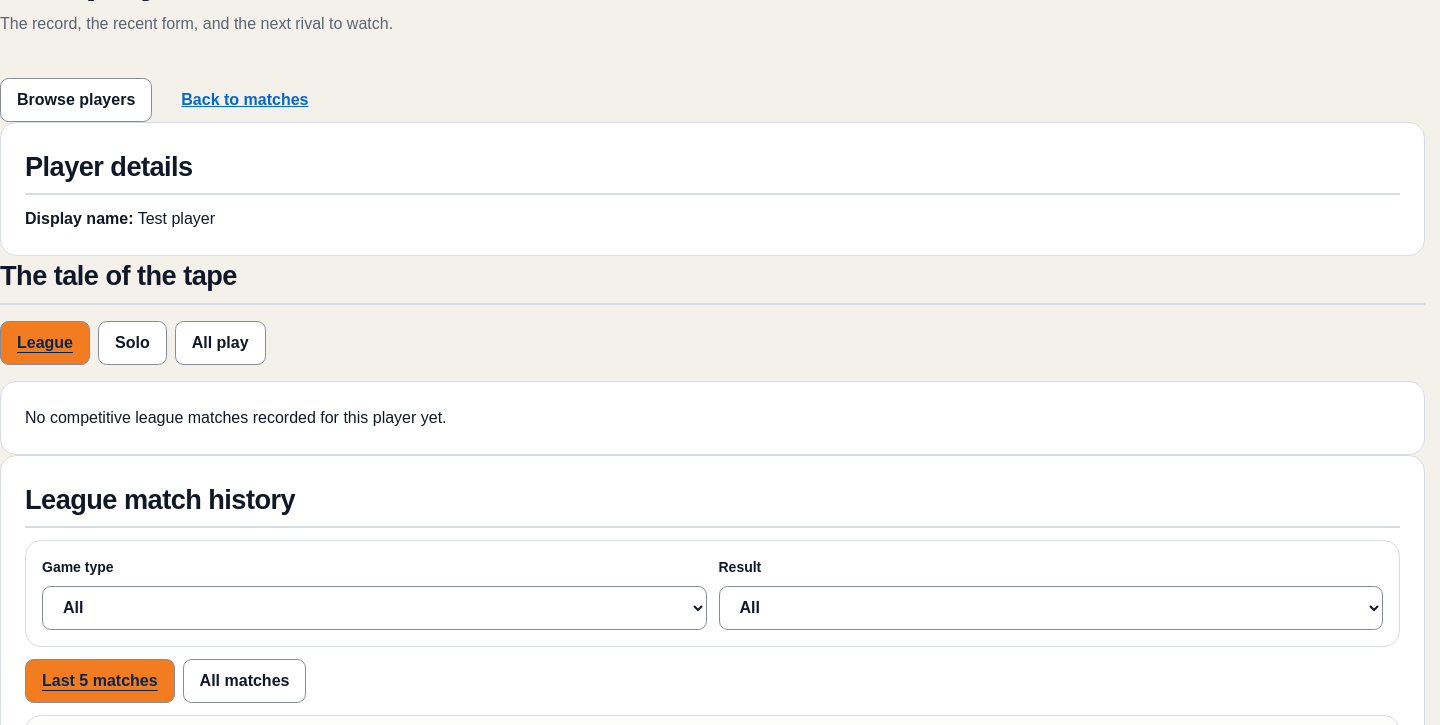
Test: filters recent matches immediately without requesting paginated history
This screenshot has width=1440, height=725.
Select "Cricket" in the dropdown labelled "Game type" at (374, 608), box [42, 586, 706, 630]
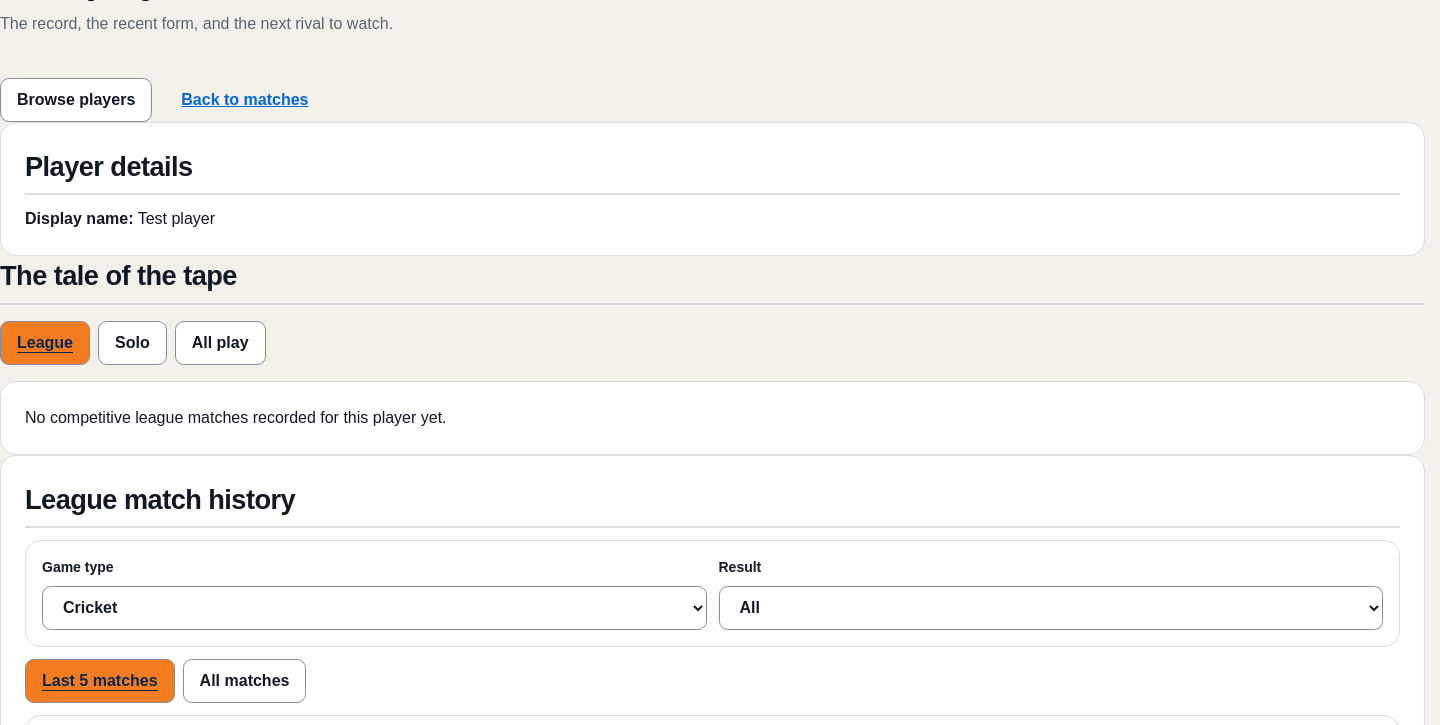
Select "Wins" in the dropdown labelled "Result" at (1051, 608), box [718, 586, 1383, 630]
(page scrolled)
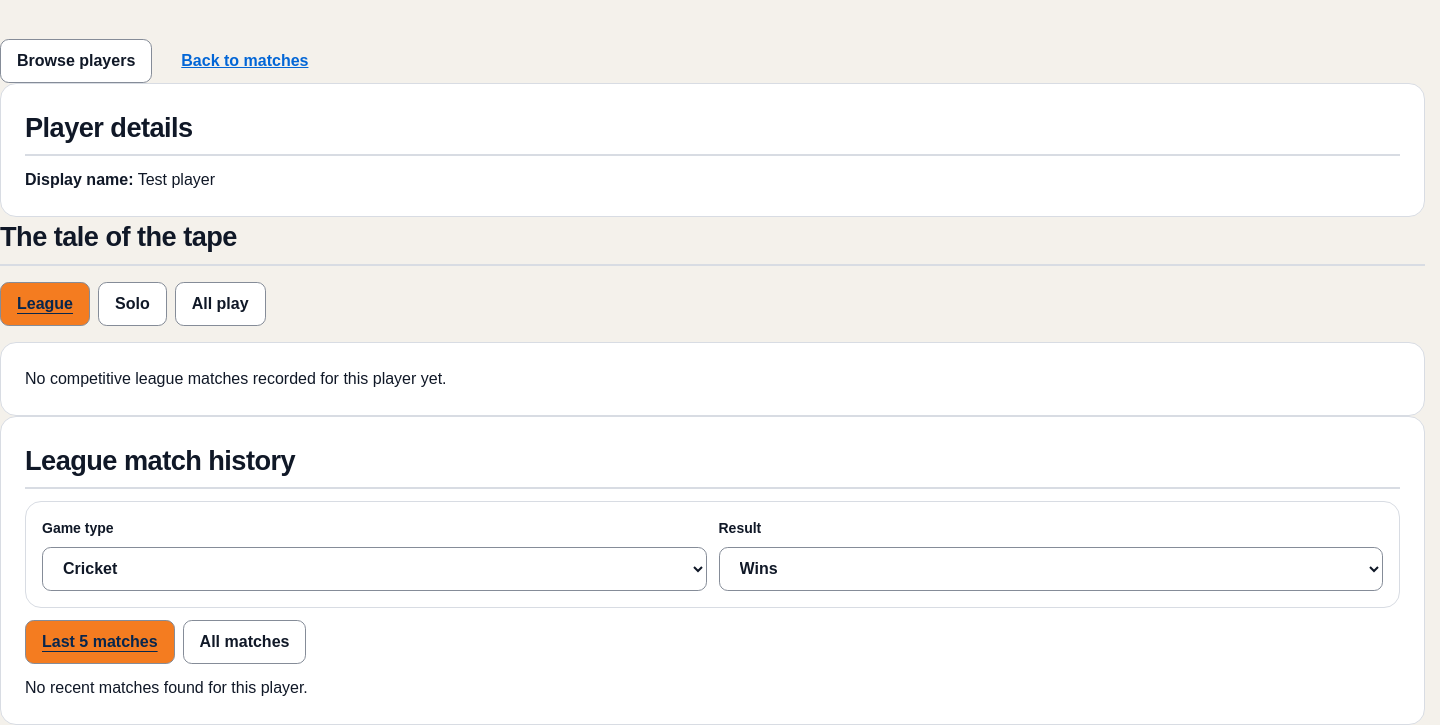
Check: the text "No recent matches found for this player." is shown, box [25, 679, 308, 696]
